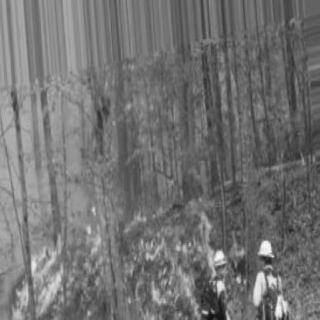Fire: (120, 200, 216, 314), (227, 229, 250, 295)
